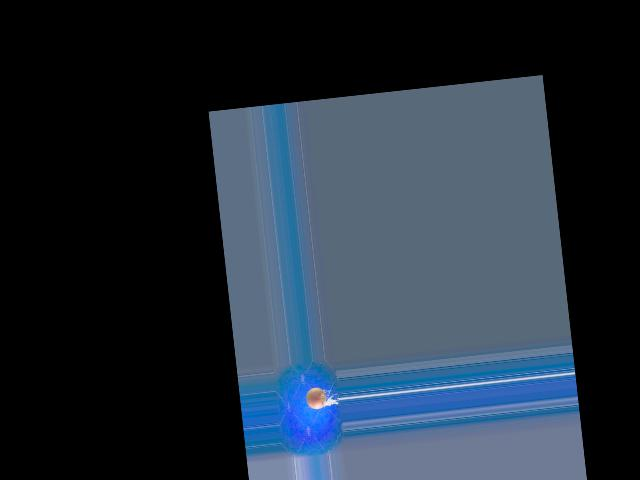tomato: (305, 386, 327, 409)
